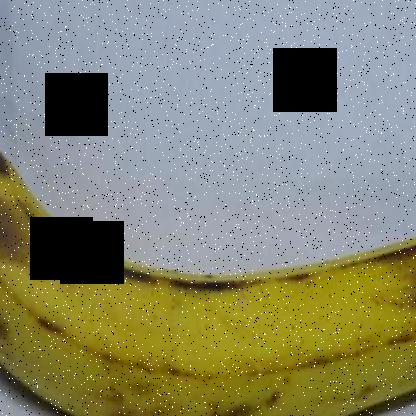ripe: (1, 111, 416, 415)
